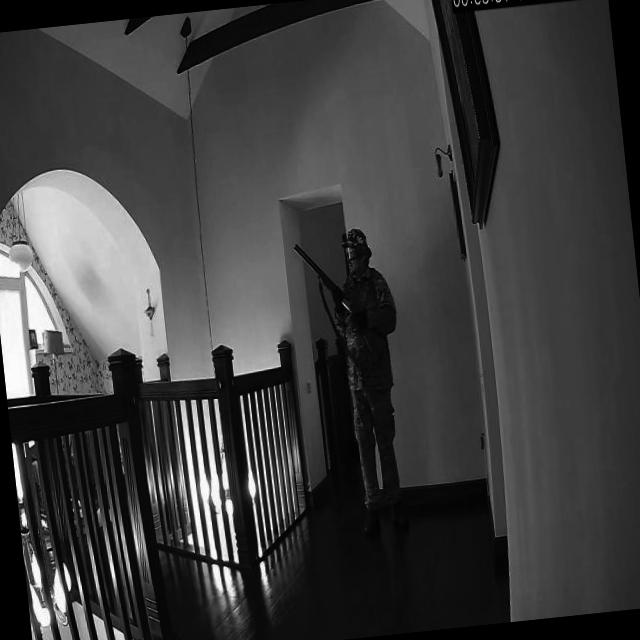gun: (290, 232, 388, 368)
person with a gun: (286, 223, 418, 546)
